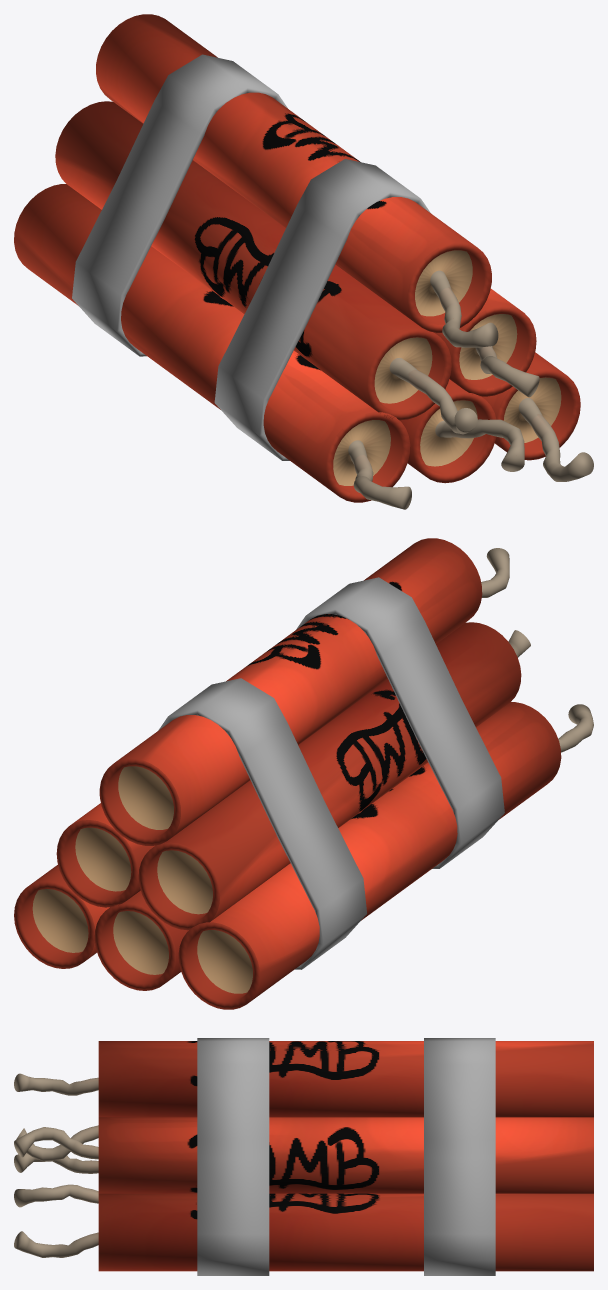
File: Dinamite2.fbx
3 views of the same model, one above another, from view 1: azimuth 30°, elevation 25°; view 2: azimuth 150°, elevation 25°; view 3: azimuth 270°, elevation 25° (orthographic). The views are drawn at different scales.
Parts seen in each view (by area): view 1: Dinamite2; view 2: Dinamite2; view 3: Dinamite2.
Part boxes in pixels (<box>): Dinamite2: <box>14,14,593,509</box>; Dinamite2: <box>14,538,593,1009</box>; Dinamite2: <box>14,1038,593,1275</box>.
Size of the model in its own units: 24.32 by 22.21 by 58.62.
1 material, 1 textured.
